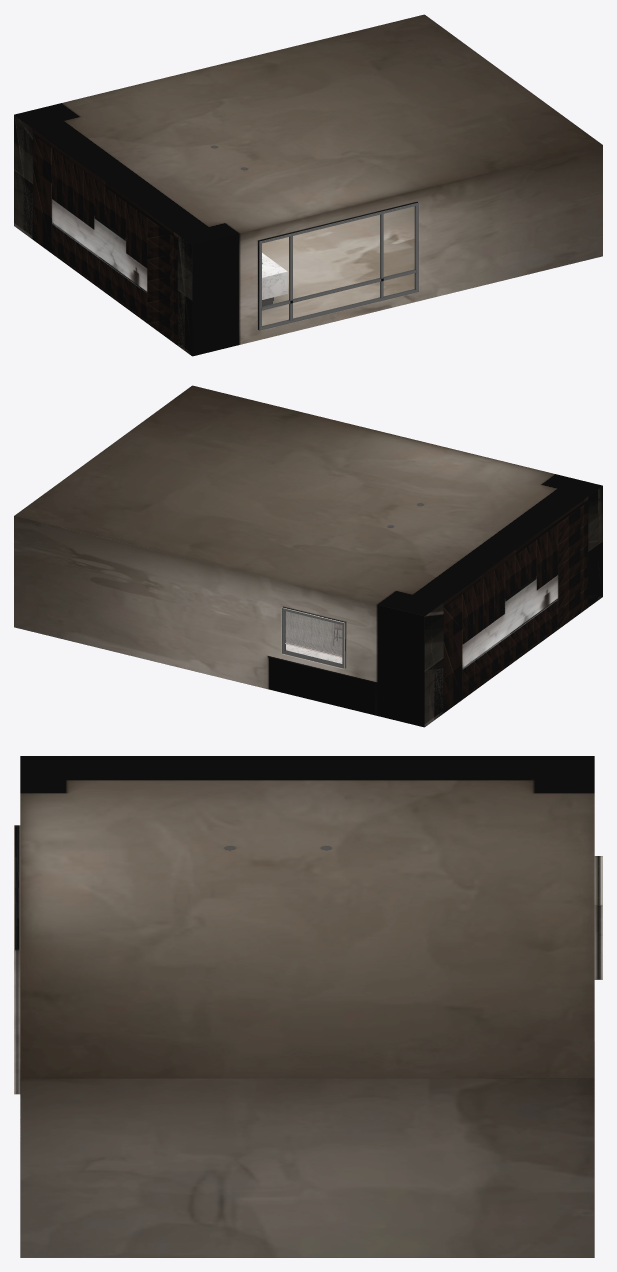
File: kitchen-island.glb
3 views of the same model, one above another, from view 1: azimuth 30°, elevation 25°; view 2: azimuth 150°, elevation 25°; view 3: azimuth 270°, elevation 25° (orthographic). The views are drawn at different scales.
Visible parts, largest first — view 1: house_house2_0, wood_wood_0, frame_frame_0, table_table_0; view 2: house_house2_0, wood_wood_0, curtain_curtain2_0, frame_frame_0, table_table_0; view 3: house_house2_0.
Part boxes in pixels (x1,y1,x2,y2): house_house2_0: (14,14,602,356); wood_wood_0: (33,129,177,344); frame_frame_0: (258,202,418,330); table_table_0: (52,222,287,299); house_house2_0: (14,385,602,727); wood_wood_0: (444,503,587,705); curtain_curtain2_0: (285,611,342,656); frame_frame_0: (282,608,344,668); table_table_0: (286,599,557,669); house_house2_0: (14,756,602,1257).
Size of the model in its own units: 11.59 by 3 by 8.94.
29 materials, 29 textured.
